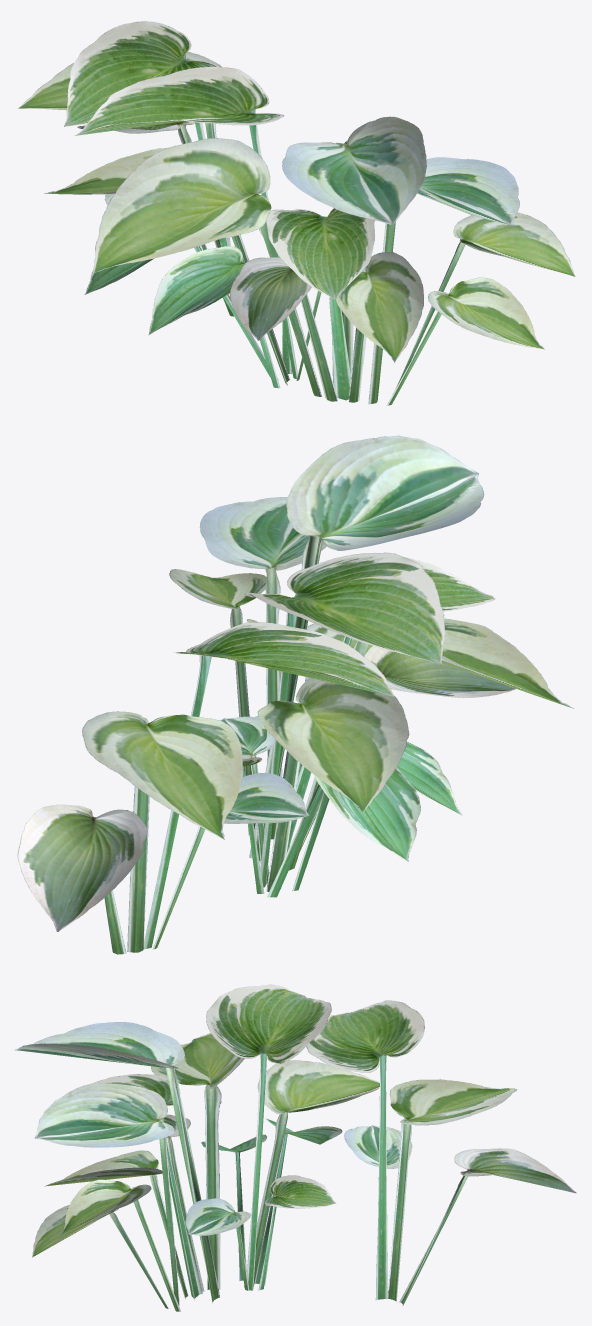
Rendered from plant_small_wg_00_o-corner05.fbx.
3 views of the same model, one above another, from view 1: azimuth 30°, elevation 25°; view 2: azimuth 150°, elevation 25°; view 3: azimuth 270°, elevation 25° (orthographic). The views are drawn at different scales.
Parts seen in each view (by area): view 1: plant_small_wg_00_o-corner05; view 2: plant_small_wg_00_o-corner05; view 3: plant_small_wg_00_o-corner05.
Boxes of the visible parts, bbox=[...] form: plant_small_wg_00_o-corner05: bbox=[18, 21, 575, 405]; plant_small_wg_00_o-corner05: bbox=[17, 435, 574, 954]; plant_small_wg_00_o-corner05: bbox=[15, 984, 576, 1311].
Size of the model in its own units: 62.19 by 44.66 by 88.49.
Materials: 1 (1 with a texture image).
